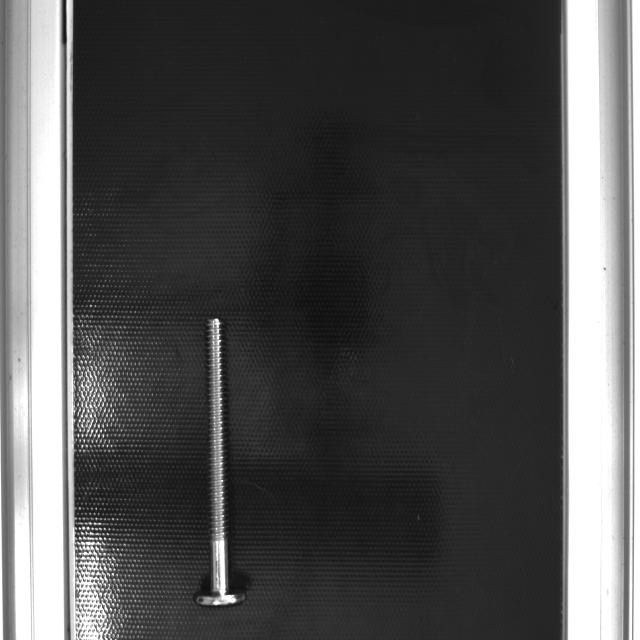bulon: (204, 316, 231, 597)
